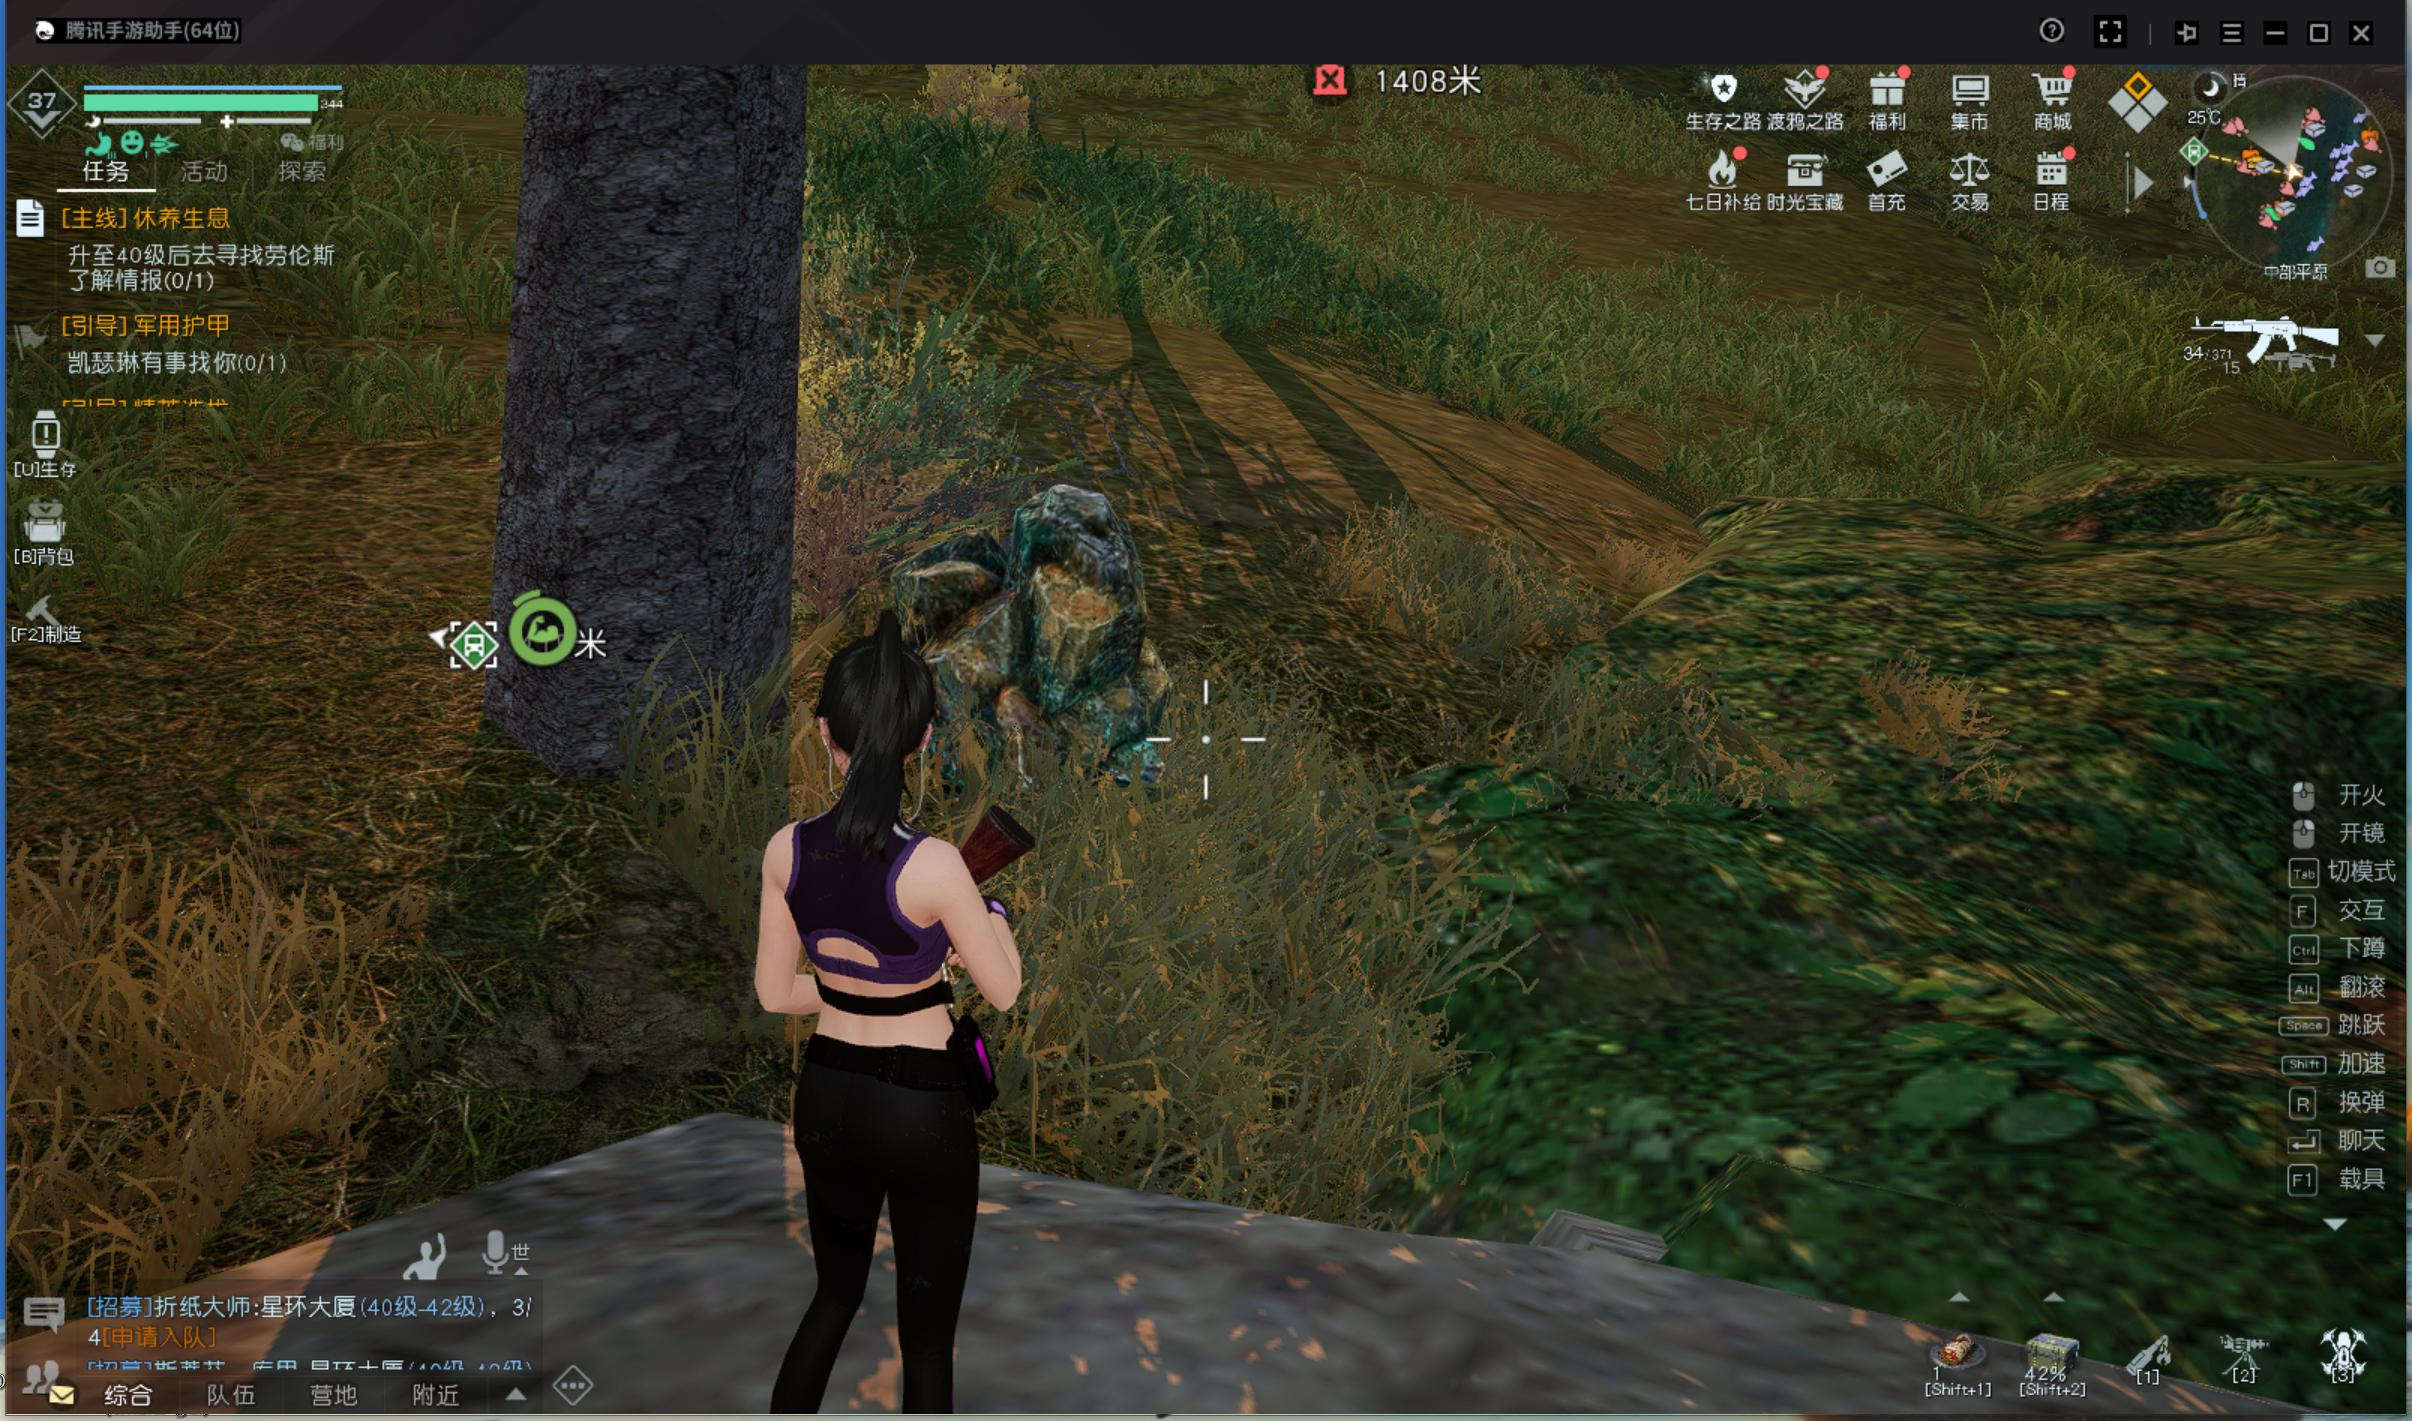stone: (908, 421, 1236, 795)
tree: (474, 85, 802, 741)
